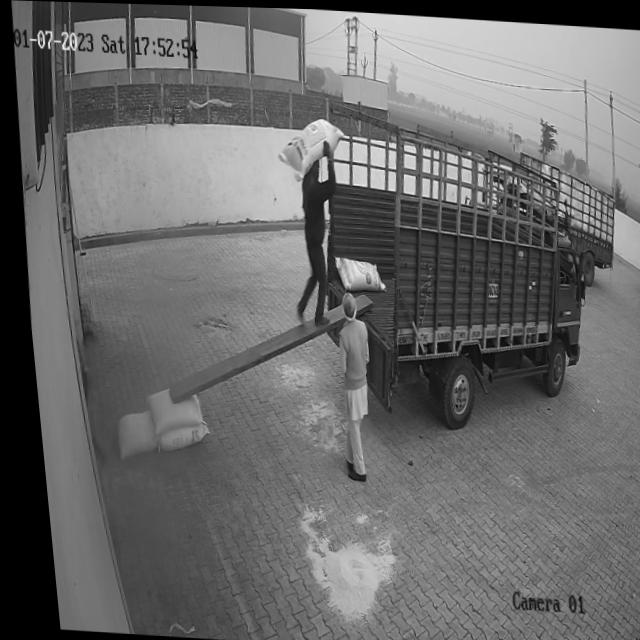sack: (271, 113, 346, 183), (136, 385, 195, 432), (104, 408, 150, 459), (327, 253, 381, 291), (148, 417, 201, 451)
